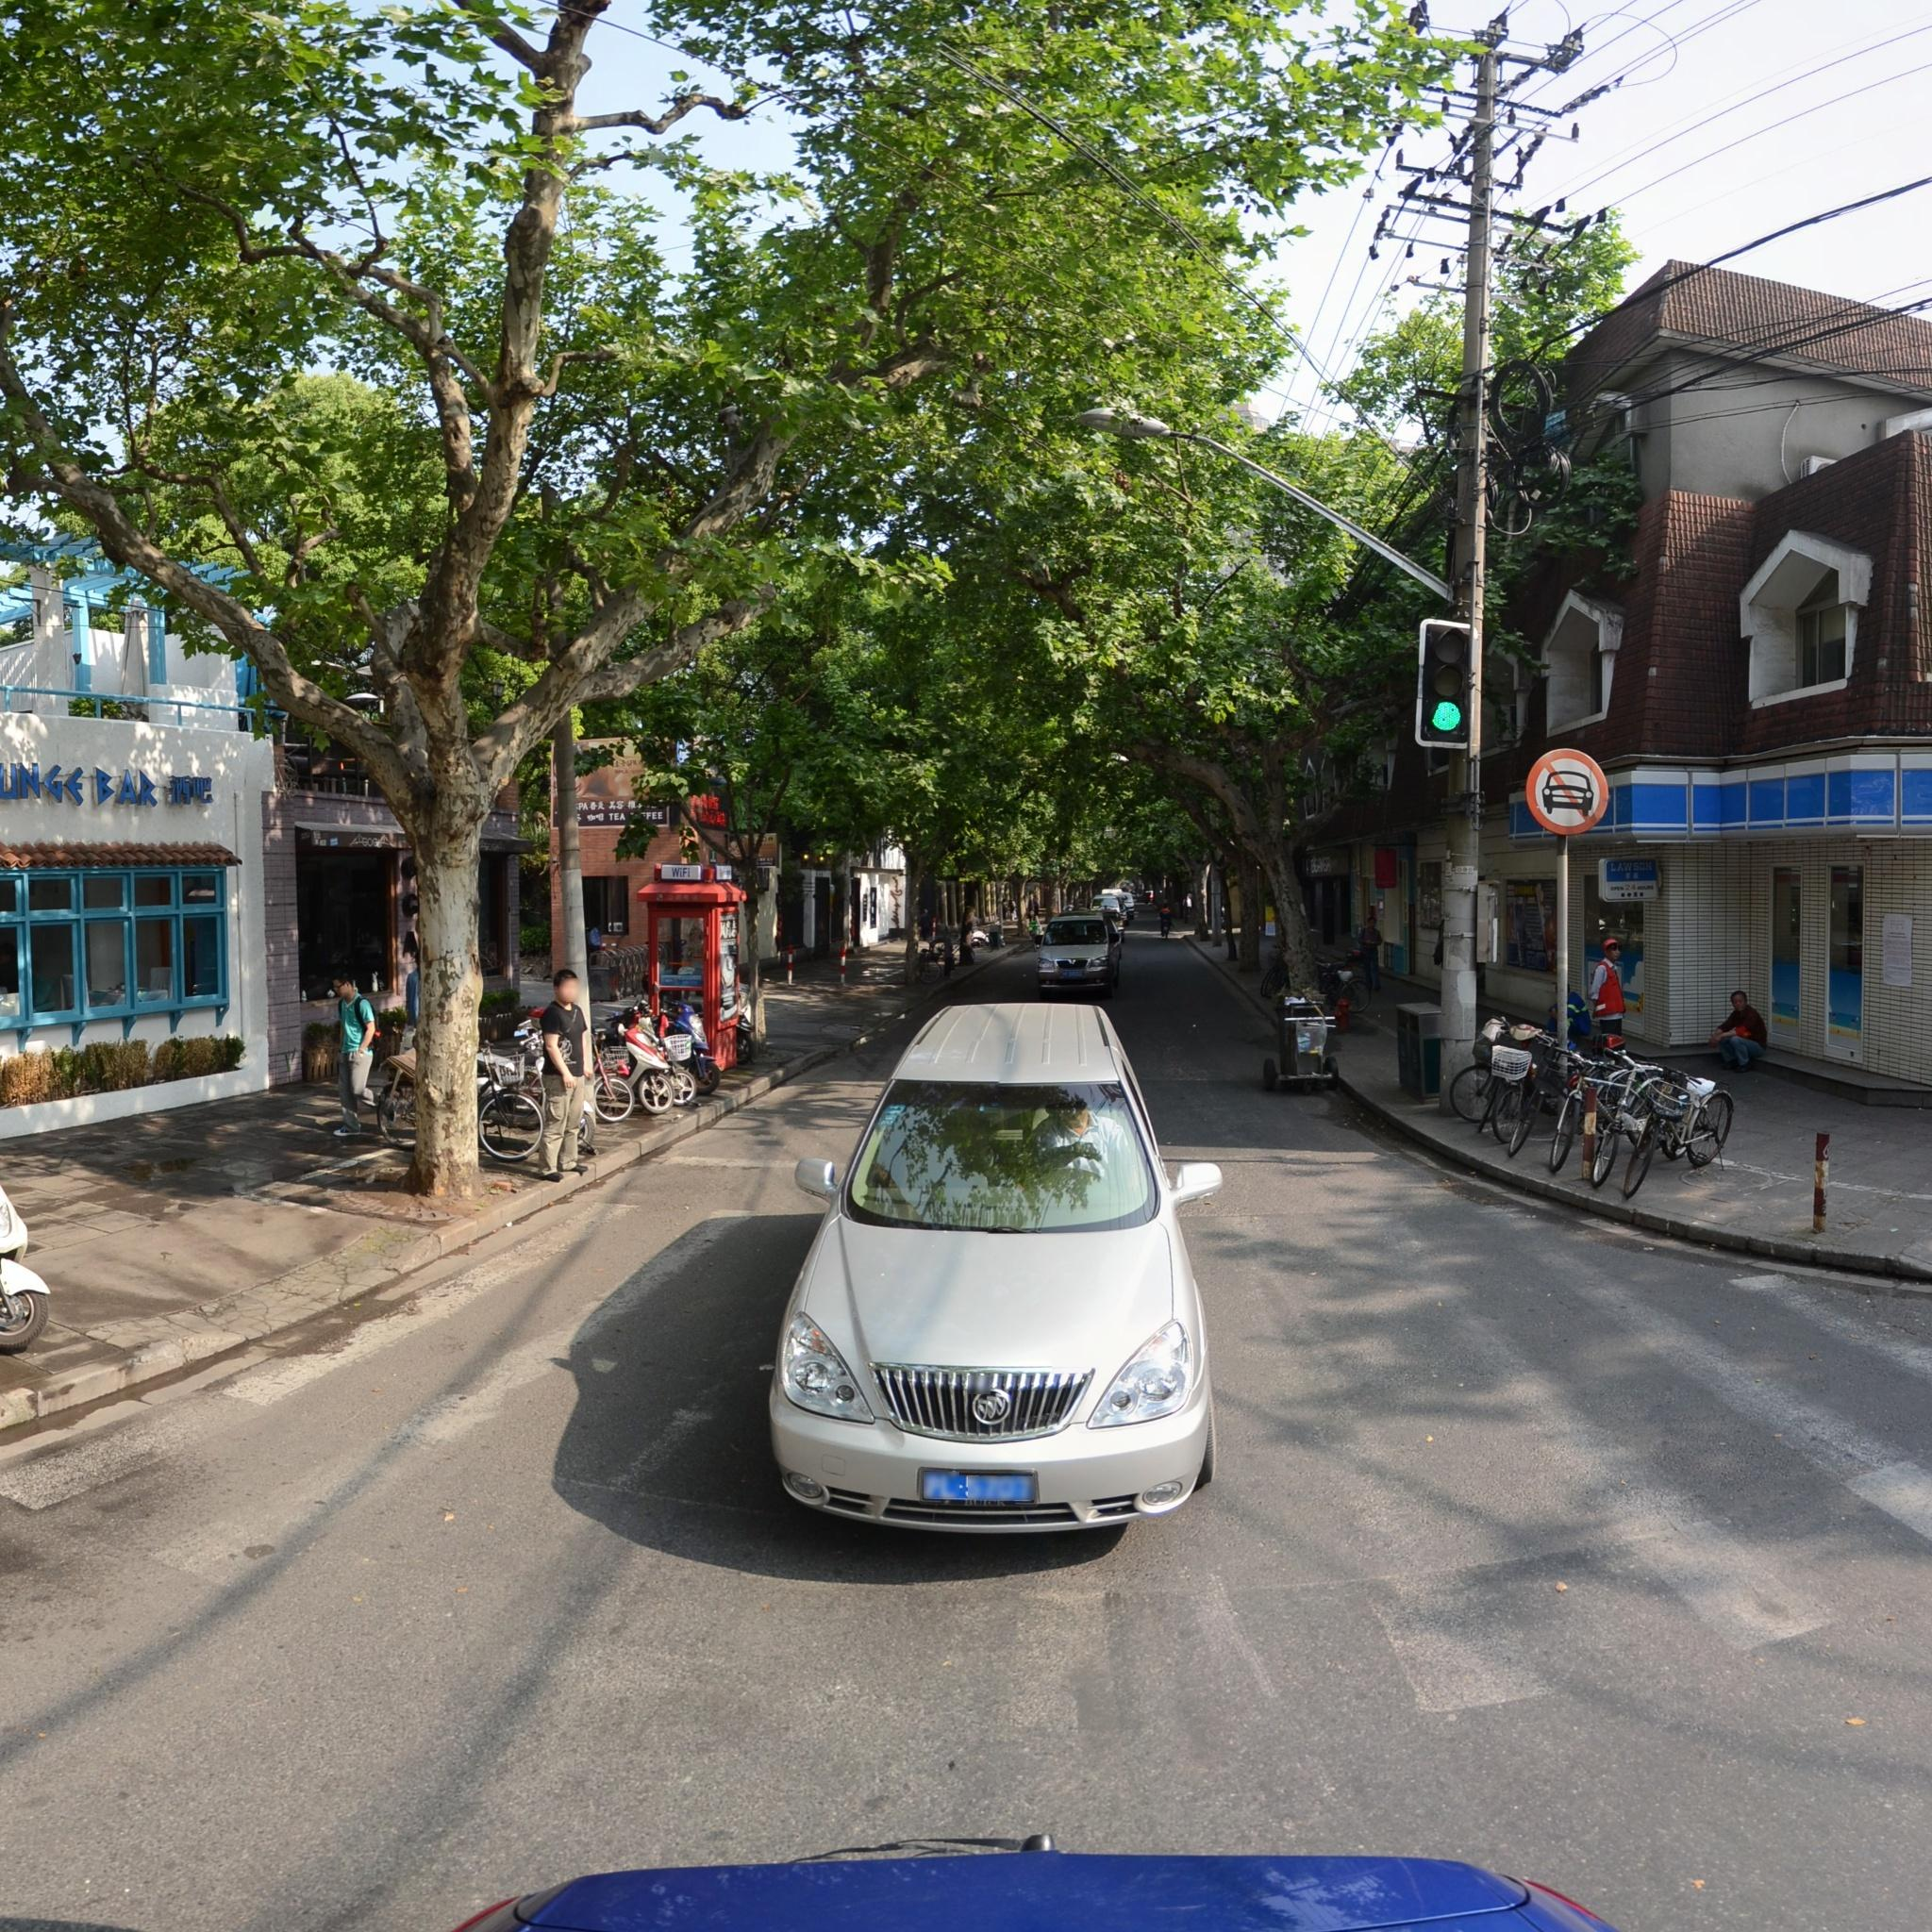p10: (1529, 743, 1599, 844)
